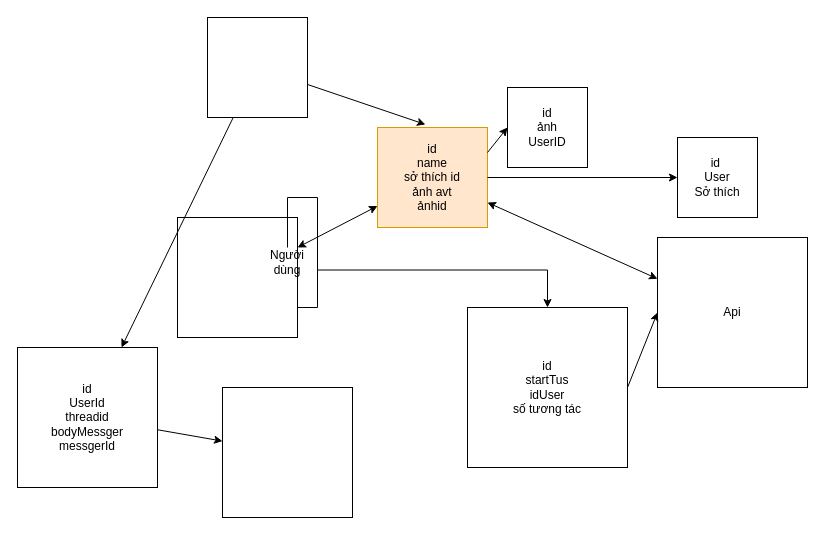
The diagram is 825 pixels wide and 535 high, and some of its shapes have lost their labels. Here are the shapes that lost their labels. From the top down, the box of each, then its label:
(206, 16, 308, 118): Id Userid UseridConnect
(176, 216, 298, 338): website (tk/mk)
(222, 386, 352, 518): id messgerId nội dung senderid img
